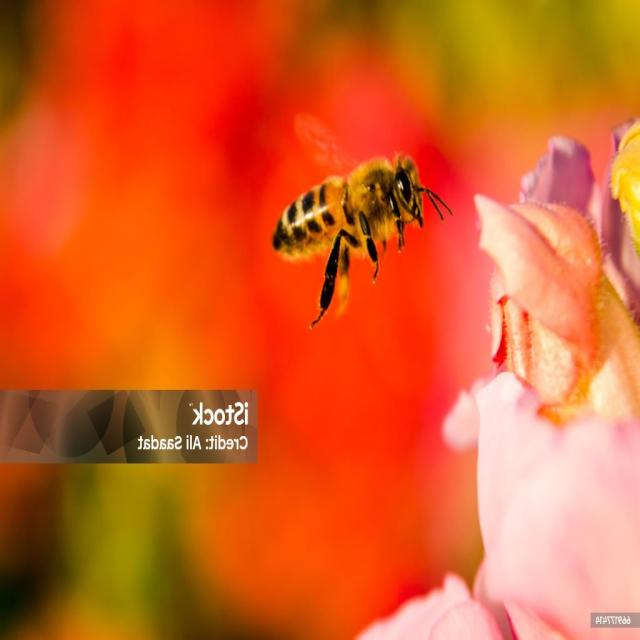bees: (270, 111, 453, 333)
